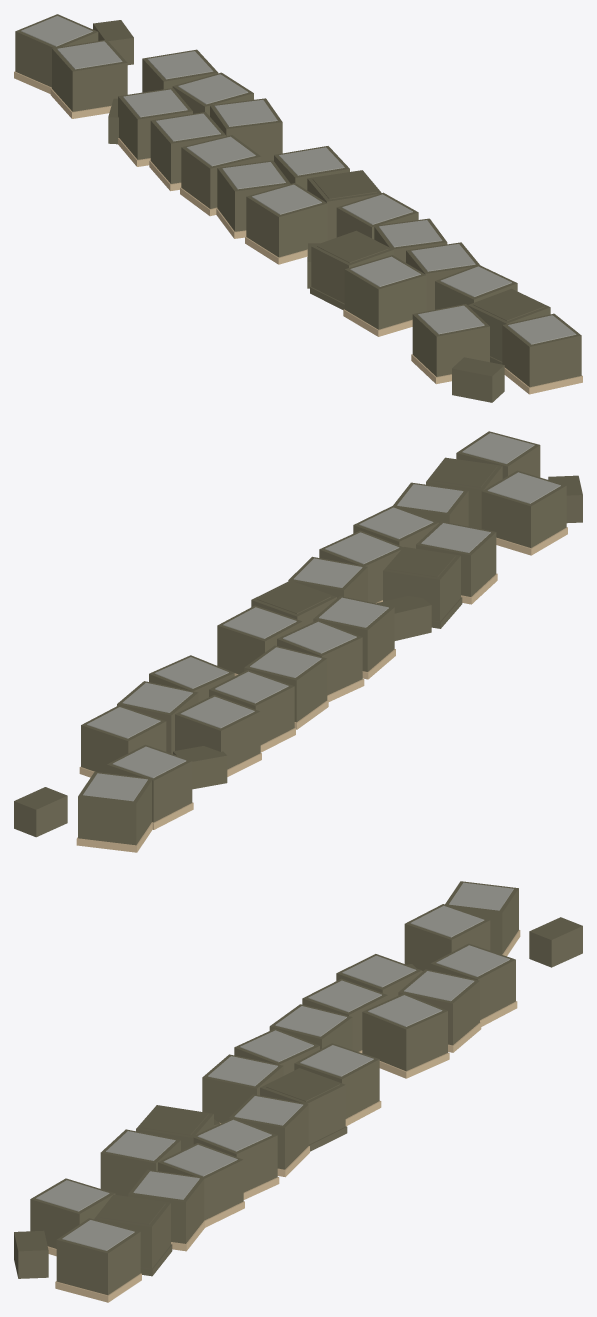
Rendered from SM_CargaCombustible_Danado_LOD1.fbx.
3 views of the same model, one above another, from view 1: azimuth 30°, elevation 25°; view 2: azimuth 150°, elevation 25°; view 3: azimuth 330°, elevation 25° (orthographic). The views are drawn at different scales.
Visible parts, largest first — view 1: SM_carga_vagon_v8_LOD1; view 2: SM_carga_vagon_v8_LOD1; view 3: SM_carga_vagon_v8_LOD1.
Boxes of the visible parts, x1,y1,x2,y2 form: SM_carga_vagon_v8_LOD1: (14, 14, 582, 402); SM_carga_vagon_v8_LOD1: (14, 431, 582, 852); SM_carga_vagon_v8_LOD1: (14, 881, 582, 1302).
Bounding box in the file's own units: 2.77 × 1.04 × 18.32.
